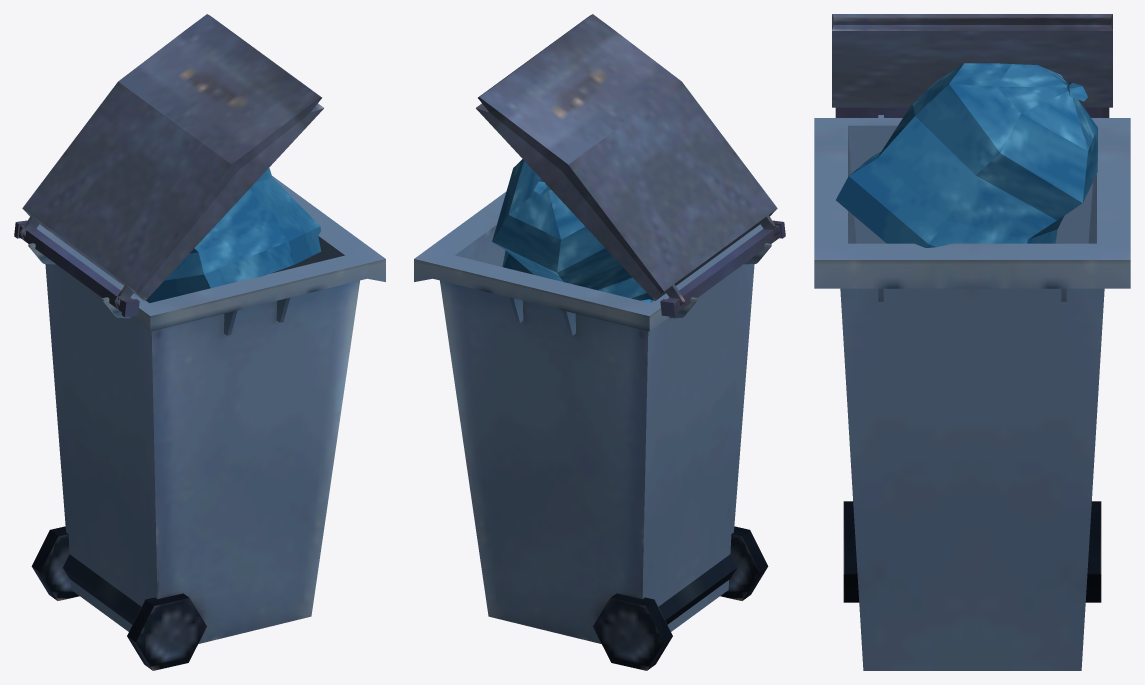
Rendered from Urban_TrashCanAlt1Overflowing_Model.fbx.
3 views of the same model, side by side, from view 1: azimuth 30°, elevation 25°; view 2: azimuth 150°, elevation 25°; view 3: azimuth 270°, elevation 25° (orthographic). The views are drawn at different scales.
Parts seen in each view (by area): view 1: Urban_TrashCanAlt1Overflowing_Mesh; view 2: Urban_TrashCanAlt1Overflowing_Mesh; view 3: Urban_TrashCanAlt1Overflowing_Mesh.
Part boxes in pixels (x1=…): Urban_TrashCanAlt1Overflowing_Mesh: x1=14, y1=14, x2=385, y2=670; Urban_TrashCanAlt1Overflowing_Mesh: x1=414, y1=14, x2=785, y2=670; Urban_TrashCanAlt1Overflowing_Mesh: x1=814, y1=14, x2=1130, y2=670.
Bounding box in the file's own units: 0.9 × 1.81 × 0.7794.
